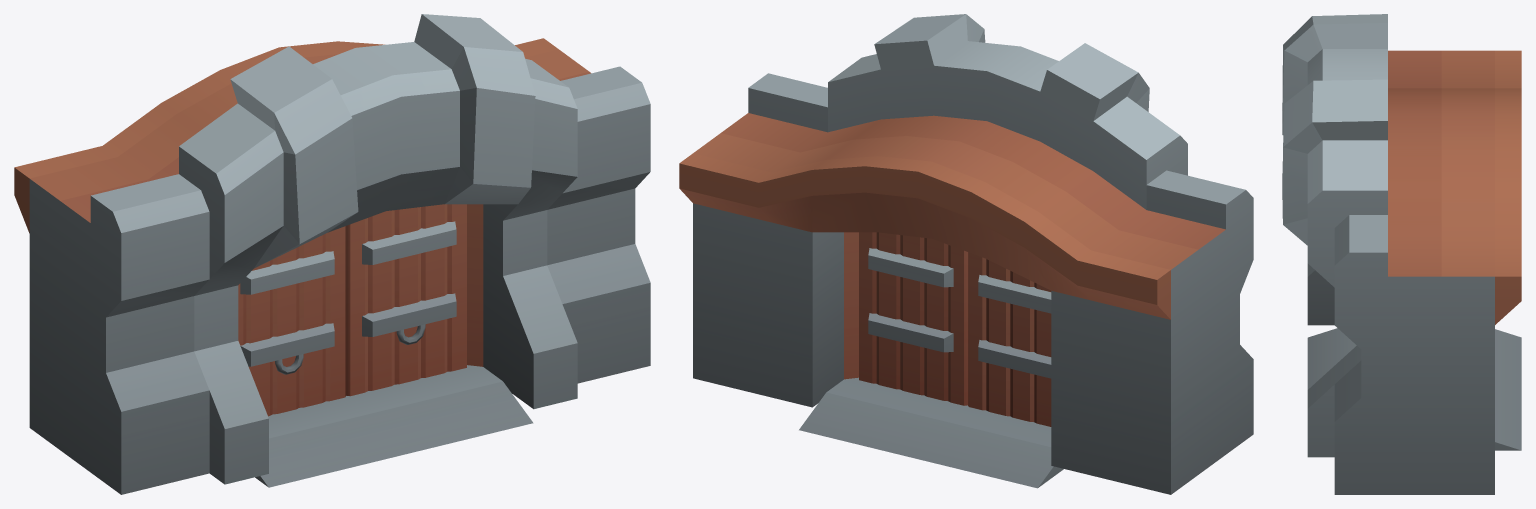
Rendered from wall_straight_gate.gltf.
The picture shows the model from 3 angles, left to right: view 1: azimuth 30°, elevation 25°; view 2: azimuth 150°, elevation 25°; view 3: azimuth 270°, elevation 25°; orthographic projection. The views are drawn at different scales.
Parts seen in each view (by area): view 1: wall_straight_gate, wall_straight_gate_door_left, wall_straight_gate_door_right; view 2: wall_straight_gate, wall_straight_gate_door_left, wall_straight_gate_door_right; view 3: wall_straight_gate.
Boxes of the visible parts, x1,y1,x2,y2 form: wall_straight_gate: [14, 14, 650, 494]; wall_straight_gate_door_left: [346, 204, 466, 396]; wall_straight_gate_door_right: [238, 226, 346, 416]; wall_straight_gate: [679, 14, 1253, 494]; wall_straight_gate_door_left: [859, 232, 967, 405]; wall_straight_gate_door_right: [968, 252, 1051, 426]; wall_straight_gate: [1282, 14, 1521, 494].
Size of the model in its own units: 2 by 1.41 by 0.8956.
Materials: 1 (1 with a texture image).
